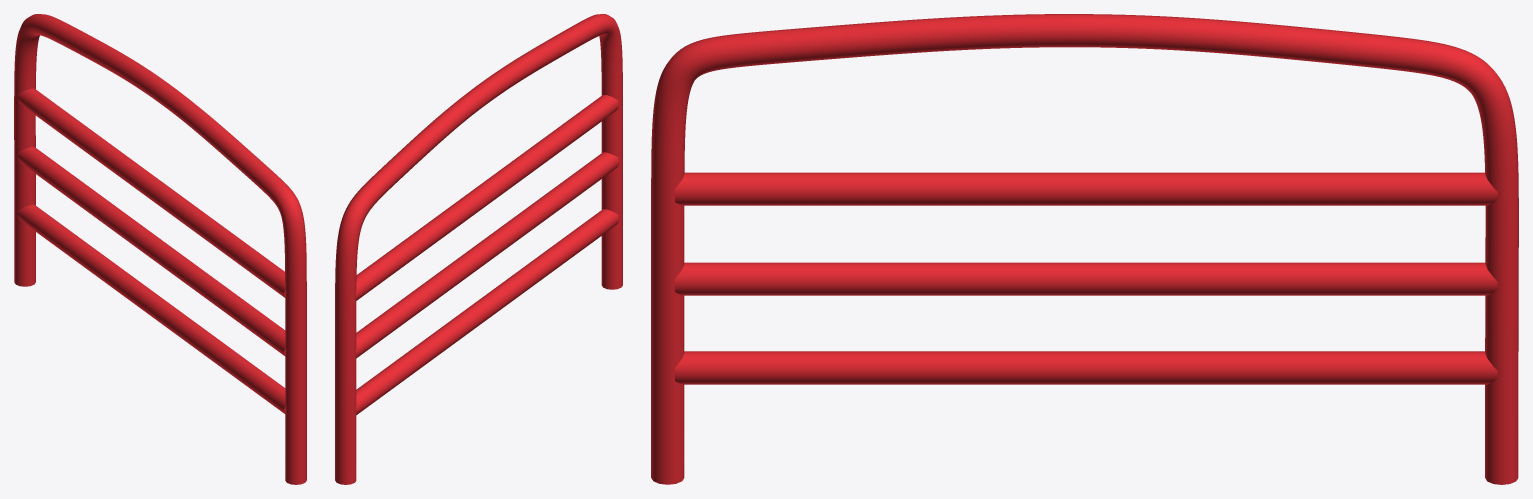
Rendered from Mesh_Static_Barandal_00.fbx.
3 renders of one model, left to right at view 1: azimuth 30°, elevation 25°; view 2: azimuth 150°, elevation 25°; view 3: azimuth 270°, elevation 25°, orthographic. The views are drawn at different scales.
Visible parts, largest first — view 1: NurbsPath; view 2: NurbsPath; view 3: NurbsPath.
Part boxes in pixels (x1,y1,x2,y2): NurbsPath: (14,14,306,484); NurbsPath: (335,14,622,484); NurbsPath: (651,14,1518,484).
Size of the model in its own units: 28 by 428 by 728.
